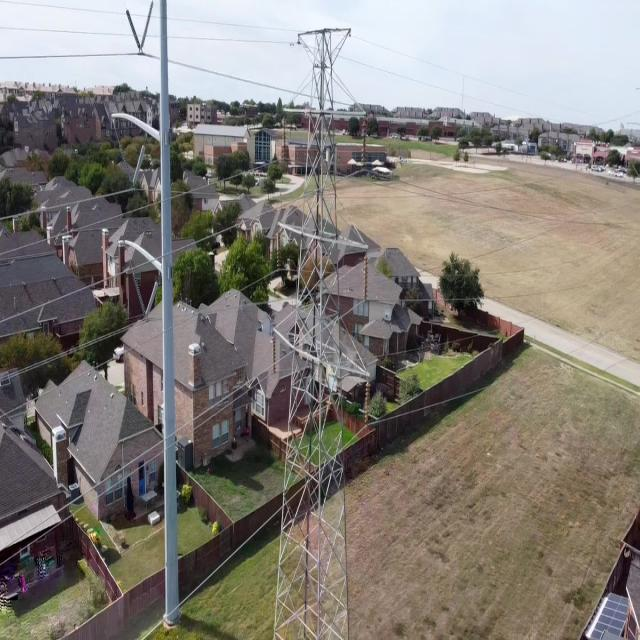杆塔: (272, 24, 351, 640)
正常绝缘子: (124, 128, 154, 199), (117, 1, 145, 60), (134, 0, 159, 62), (139, 264, 162, 330), (114, 136, 139, 196), (130, 270, 152, 327), (360, 111, 370, 175), (362, 374, 371, 430), (274, 221, 283, 277), (280, 111, 289, 165), (361, 244, 369, 303), (269, 330, 277, 376)
